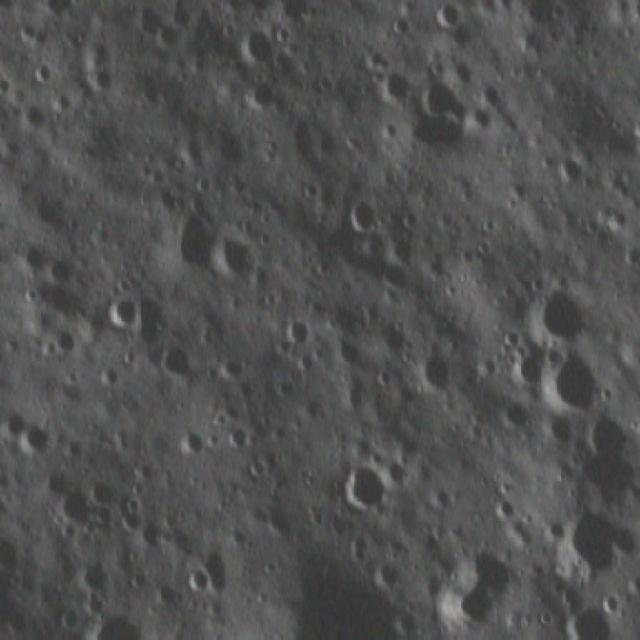crater: (424, 529, 518, 636), (547, 501, 627, 593), (540, 346, 623, 423), (526, 276, 609, 352), (408, 70, 486, 136), (160, 205, 220, 282), (331, 462, 394, 522), (401, 342, 459, 404), (581, 406, 637, 465), (232, 25, 290, 78), (210, 228, 258, 289), (11, 188, 69, 238), (16, 416, 64, 472), (48, 487, 98, 535), (154, 339, 200, 388), (112, 492, 156, 540), (245, 74, 286, 124), (346, 196, 386, 247), (94, 291, 140, 335), (373, 66, 416, 111), (368, 258, 414, 298), (509, 351, 548, 398), (75, 557, 117, 600), (551, 149, 594, 189), (537, 411, 577, 451), (496, 398, 536, 437), (42, 252, 80, 292), (177, 565, 214, 604), (487, 495, 530, 528), (14, 99, 52, 136), (280, 311, 318, 347), (172, 428, 208, 464), (432, 4, 466, 38), (19, 241, 50, 277), (50, 326, 81, 362), (224, 424, 258, 456), (217, 356, 252, 387), (384, 12, 416, 43), (93, 363, 124, 391), (31, 62, 60, 89)
